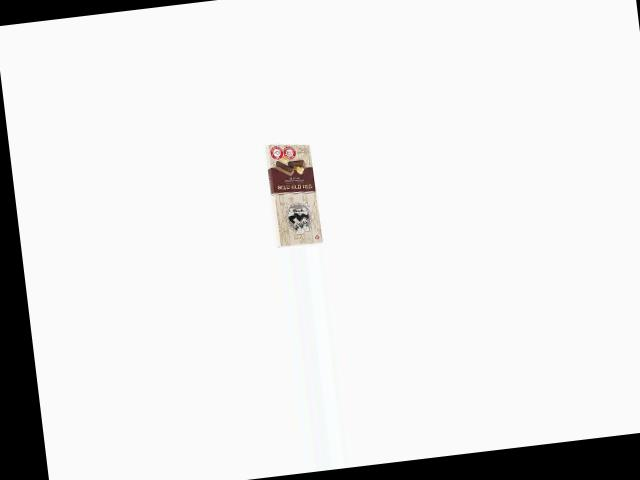chocolate: (256, 137, 324, 249)
